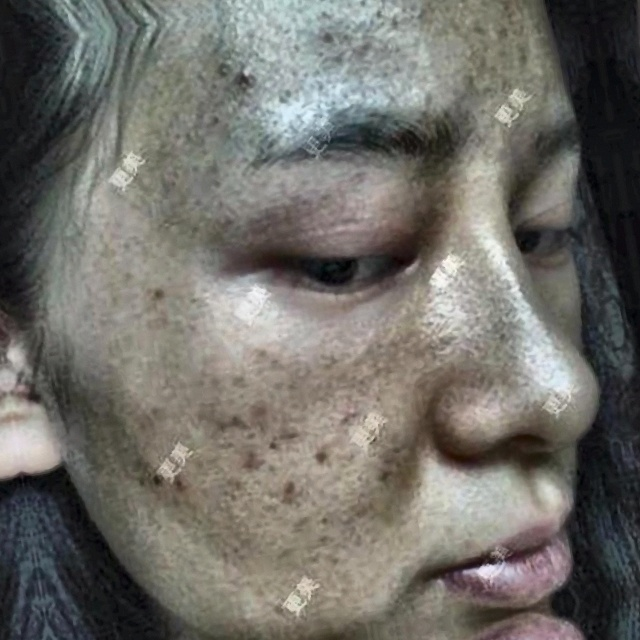comedone: (223, 59, 268, 101), (239, 438, 277, 475), (171, 468, 196, 504)
